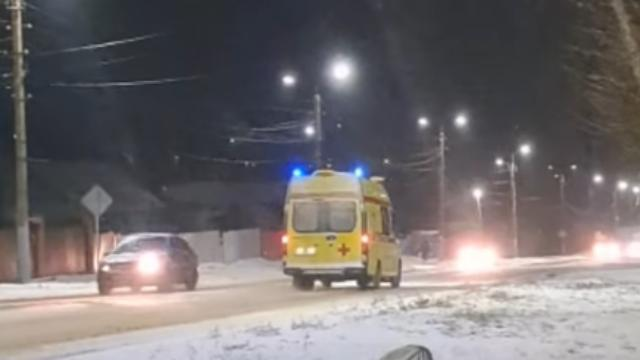intensive care unit: (282, 164, 402, 290)
non emergency car: (99, 230, 200, 296)
